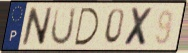0: (102, 8, 125, 47)
9: (154, 7, 176, 46)
D: (73, 6, 100, 47)
N: (20, 6, 54, 47)
U: (49, 6, 78, 47)
X: (123, 6, 156, 48)
